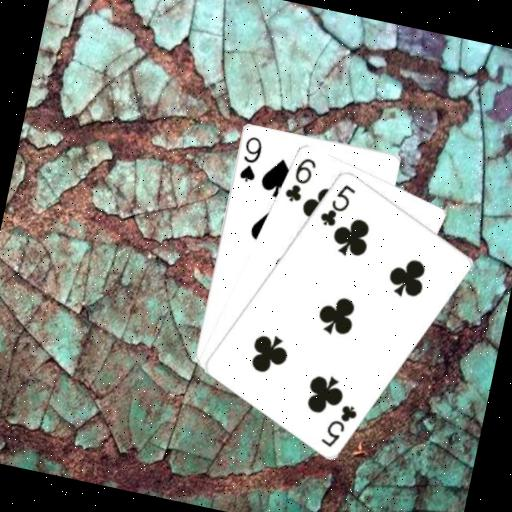5C: (315, 175, 359, 231), (316, 396, 360, 452)
6C: (280, 151, 319, 206)
9S: (234, 131, 266, 185)
